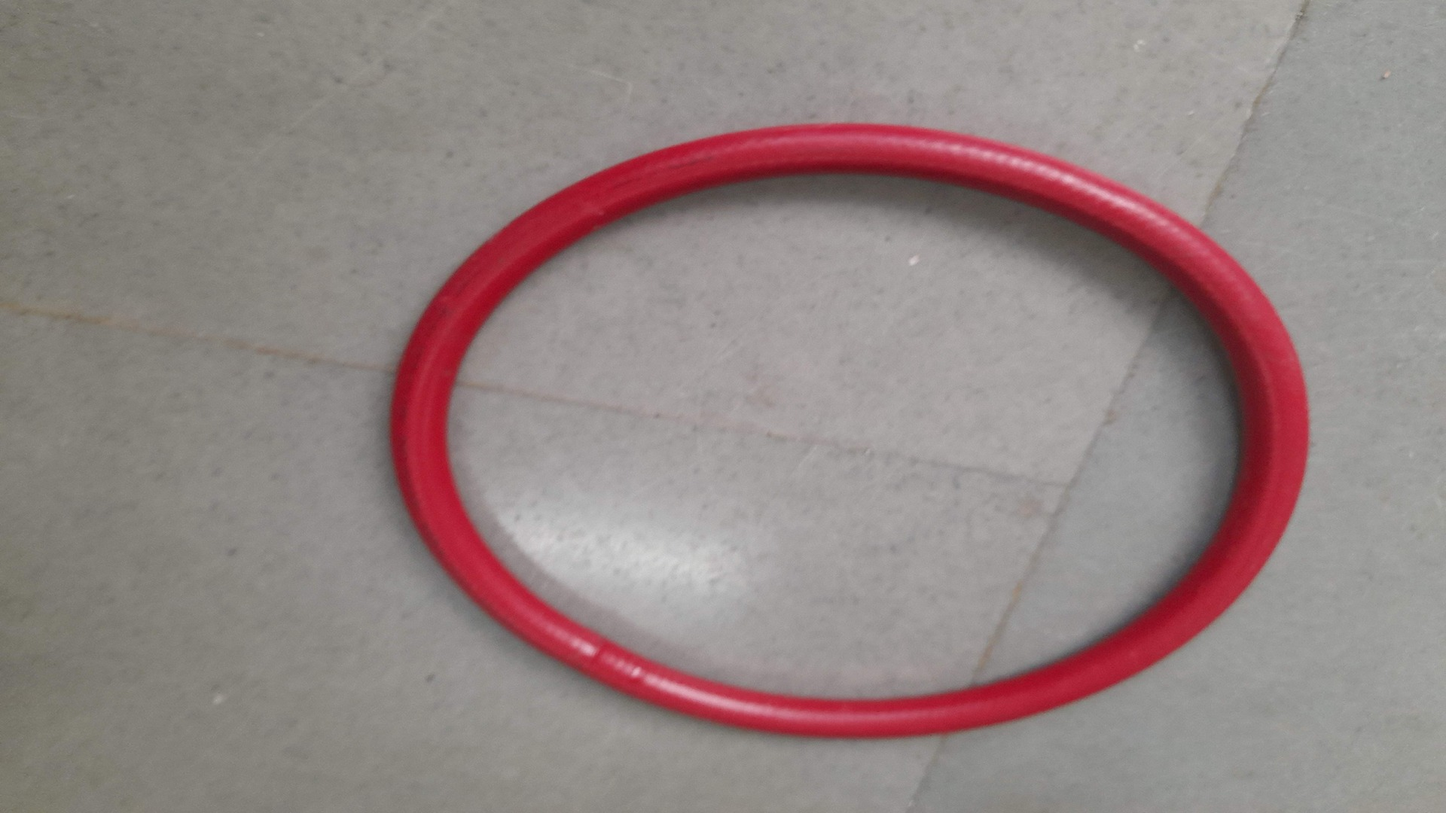Red ring: (392, 123, 1311, 741)
